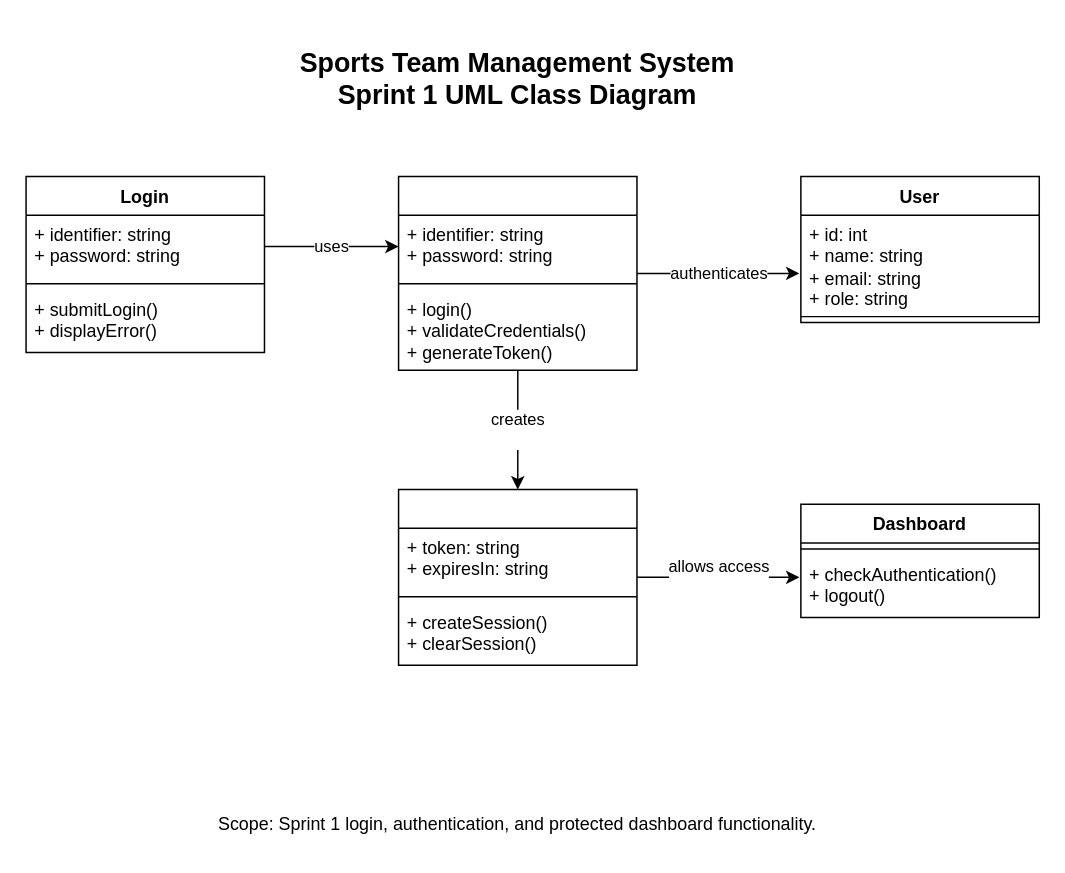
This 1065x873 diagram has some shape labels left out. Each missing label, with the box of its shape:
Authentication: (397, 175, 637, 370)
AuthSession: (397, 488, 637, 665)
